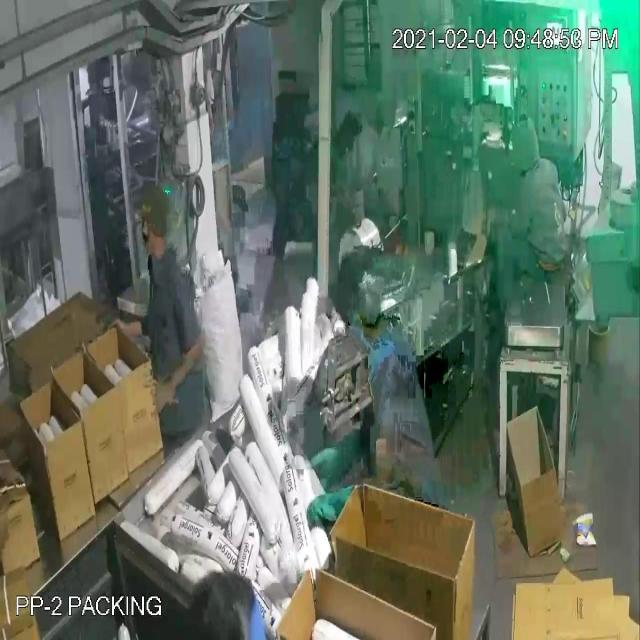No_Gloves: (53, 55, 344, 511)
